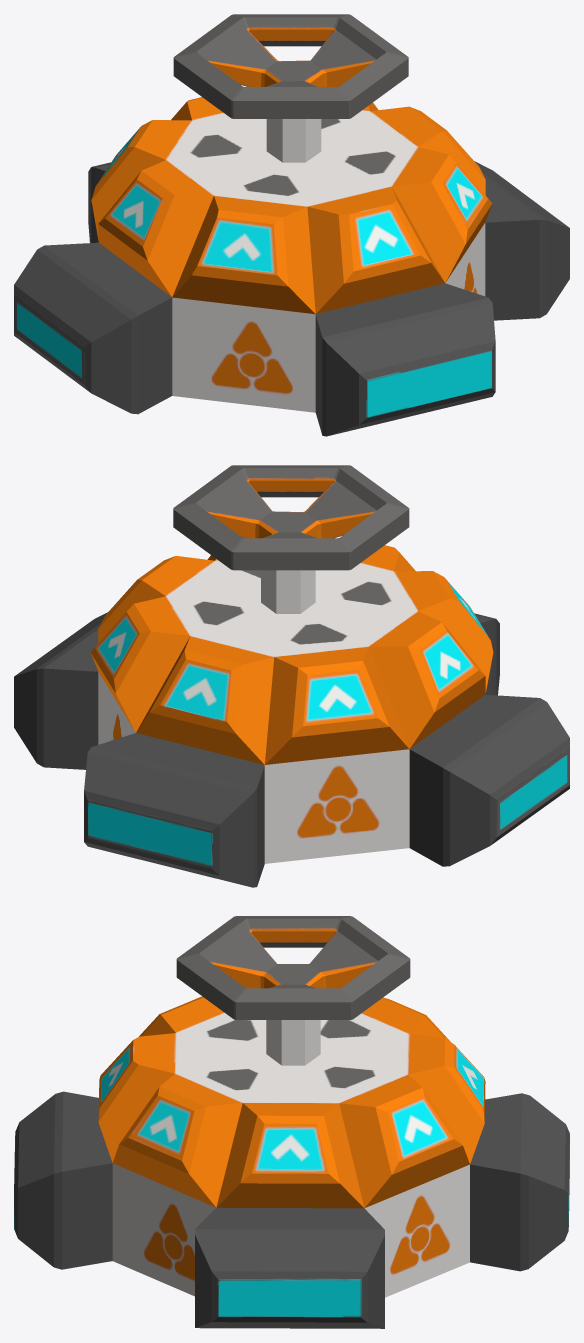
The model's file is SM_Props_14.fbx.
3 views of the same model, one above another, from view 1: azimuth 30°, elevation 25°; view 2: azimuth 150°, elevation 25°; view 3: azimuth 270°, elevation 25° (orthographic).
Visible parts, largest first — view 1: SM_Props_14; view 2: SM_Props_14; view 3: SM_Props_14.
Boxes of the visible parts, <box> form: SM_Props_14: <box>14,14,569,436</box>; SM_Props_14: <box>14,465,569,887</box>; SM_Props_14: <box>14,916,569,1328</box>.
Bounding box in the file's own units: 93.08 × 93.08 × 51.14.
1 material, 1 textured.
